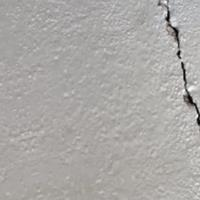crack: (153, 0, 199, 131)
